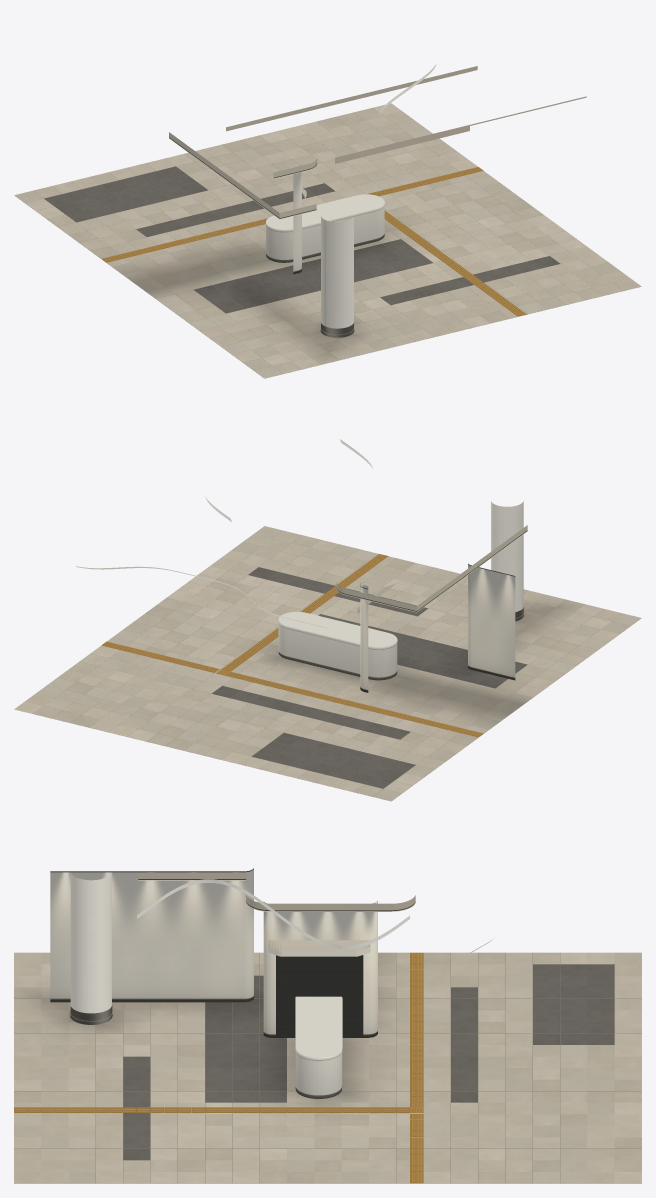
The model's file is concourse-finish.glb.
3 views of the same model, one above another, from view 1: azimuth 30°, elevation 25°; view 2: azimuth 150°, elevation 25°; view 3: azimuth 270°, elevation 25° (orthographic). The views are drawn at different scales.
Parts seen in each view (by area): view 1: PassengerHallFinish; view 2: PassengerHallFinish; view 3: PassengerHallFinish.
Part boxes in pixels (left/top/right/bottom): PassengerHallFinish: left=14, top=64, right=641, bottom=378; PassengerHallFinish: left=14, top=439, right=641, bottom=801; PassengerHallFinish: left=14, top=868, right=641, bottom=1183.
Bounding box in the file's own units: 12 × 4.74 × 13.8.
1 material, 1 textured.
